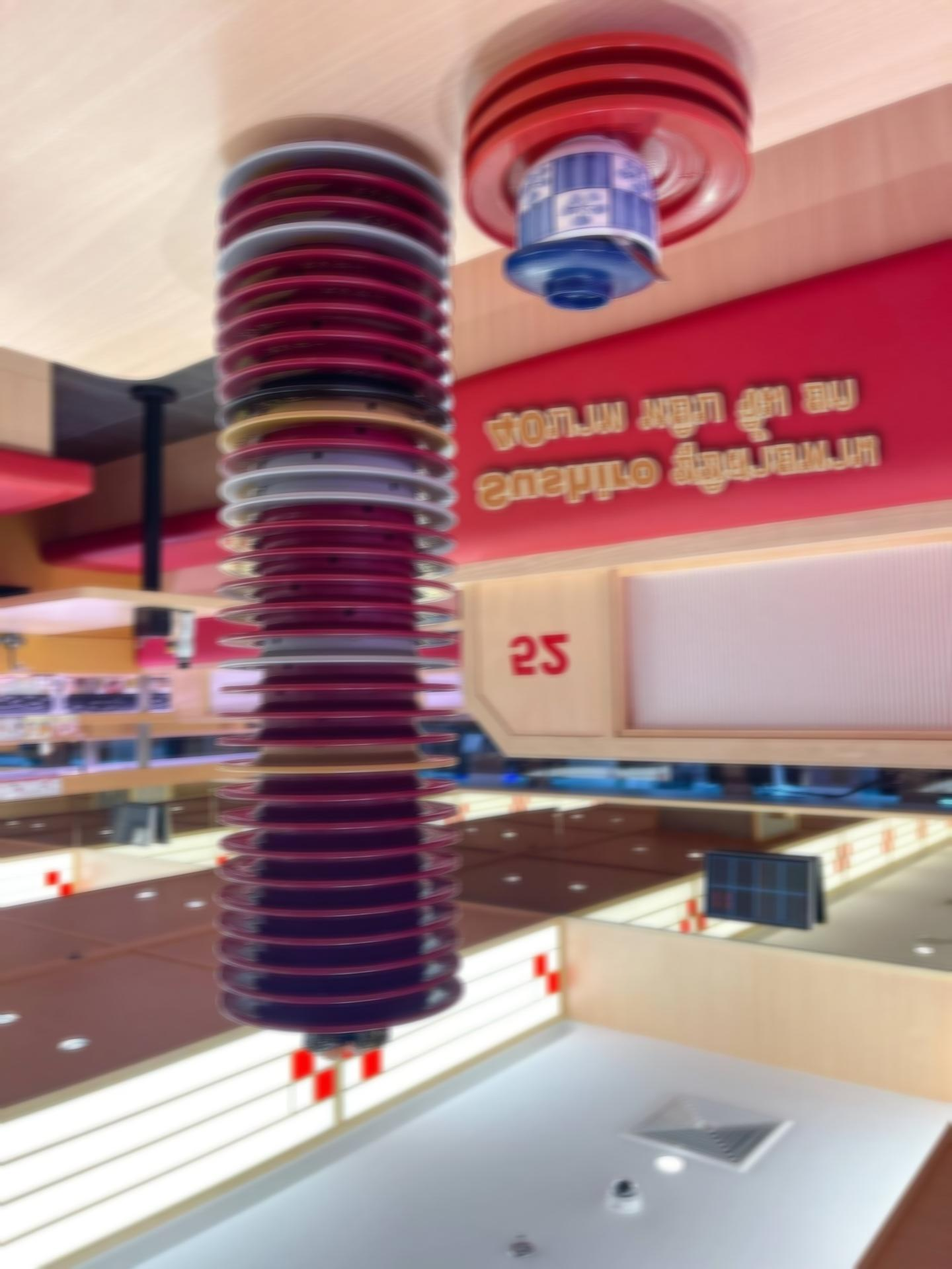Janback: (250, 385, 429, 402)
Jangold: (220, 749, 446, 773), (233, 405, 421, 426)
Janred: (202, 1005, 486, 1038), (222, 718, 464, 749), (217, 776, 485, 803), (223, 885, 459, 914), (222, 802, 475, 828), (226, 830, 467, 857), (219, 974, 473, 999), (233, 515, 431, 545), (225, 857, 461, 882), (231, 673, 467, 696), (228, 698, 471, 720), (230, 572, 454, 594), (223, 355, 416, 380), (229, 546, 455, 567), (223, 922, 465, 941), (229, 596, 464, 615), (221, 953, 468, 971), (226, 622, 459, 640), (235, 435, 429, 455), (246, 299, 426, 320), (240, 274, 417, 292), (246, 249, 407, 268), (253, 199, 418, 217), (234, 332, 447, 344), (256, 171, 407, 187)
Janwhite: (230, 488, 443, 514), (228, 640, 449, 665), (248, 135, 410, 161), (245, 459, 434, 480), (252, 221, 408, 243)
